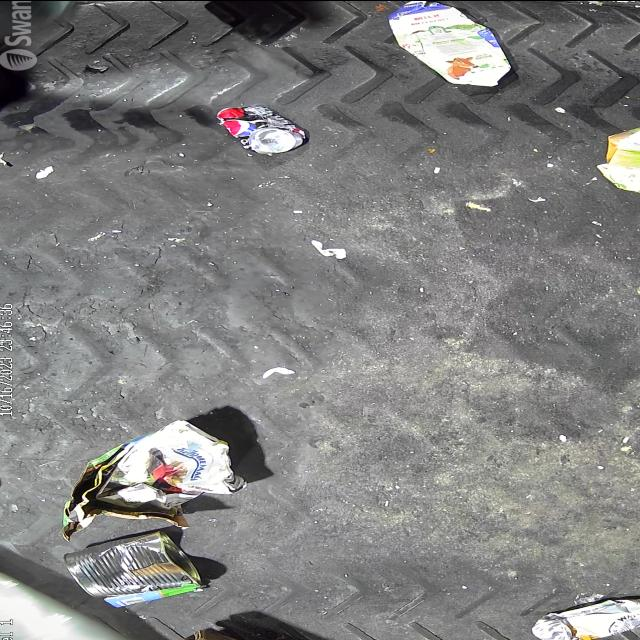can: (62, 529, 202, 598), (530, 598, 640, 640), (217, 104, 308, 152)
non_white_jug: (387, 0, 511, 86), (596, 123, 640, 196)
